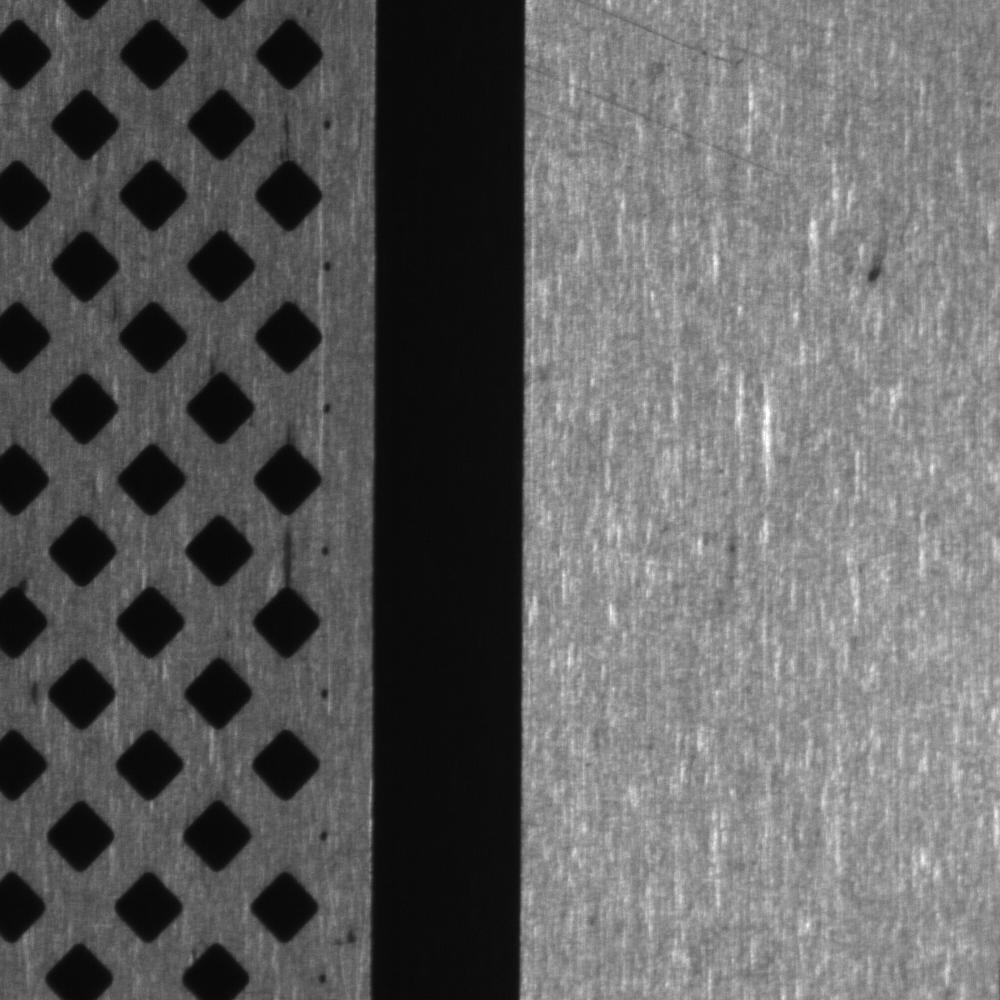Etching: (259, 514, 319, 592), (854, 227, 908, 293)
Scar: (526, 68, 798, 214), (580, 1, 767, 65)
